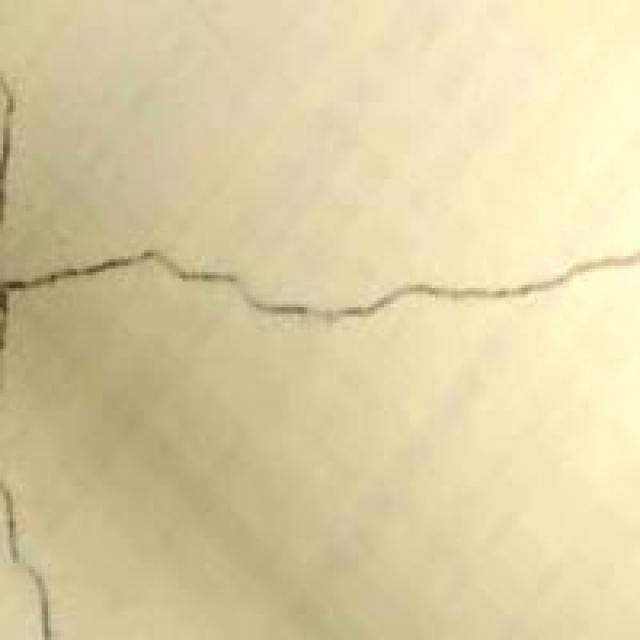crack: (0, 214, 640, 356), (0, 466, 64, 640)
